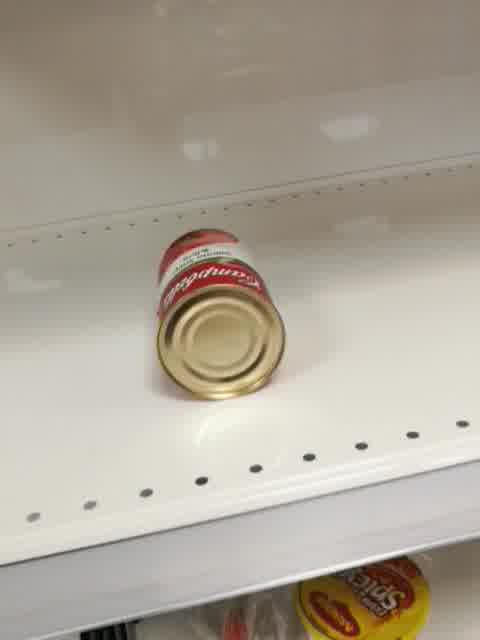tomatosoup: (152, 224, 288, 403)
